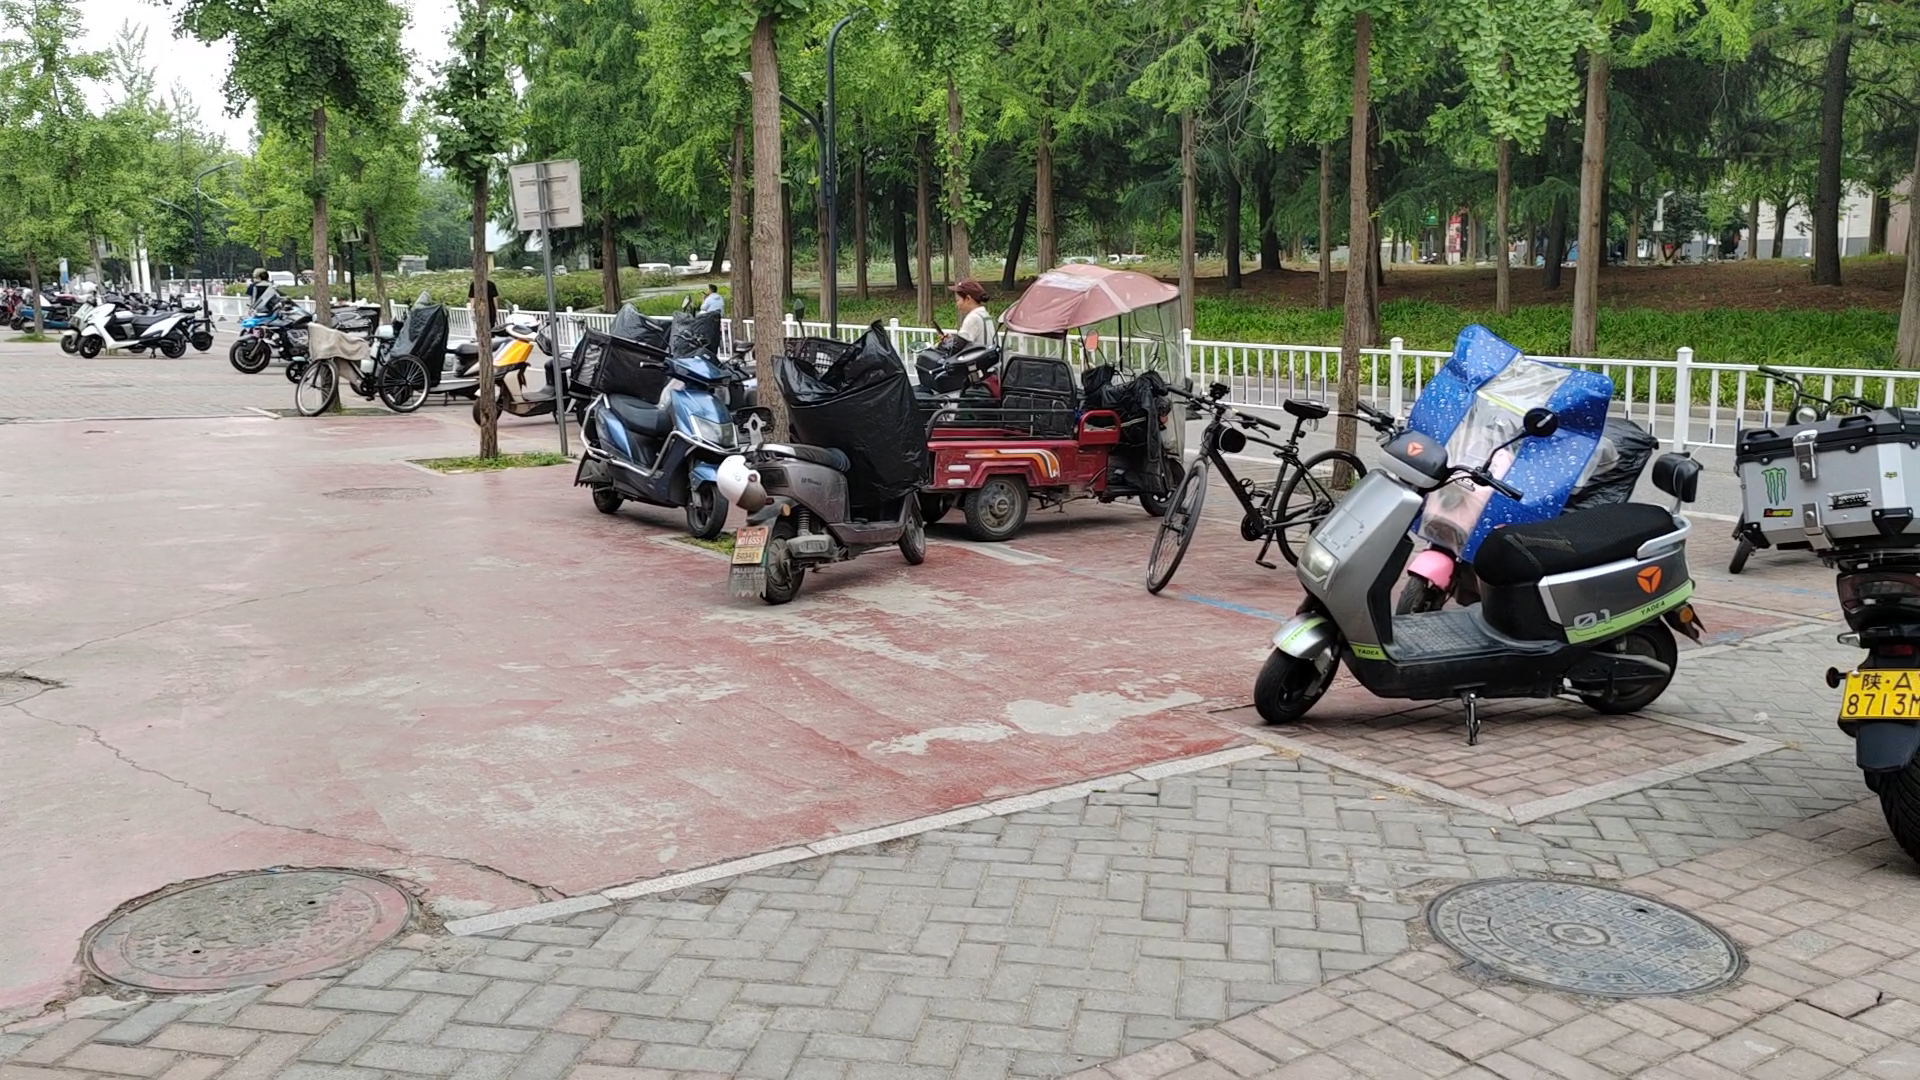others: (1313, 382, 1706, 752), (1731, 355, 1920, 855), (731, 338, 967, 612), (1145, 375, 1375, 592), (564, 330, 733, 535), (289, 297, 436, 430), (483, 297, 604, 436), (61, 269, 215, 361), (245, 293, 335, 381)
